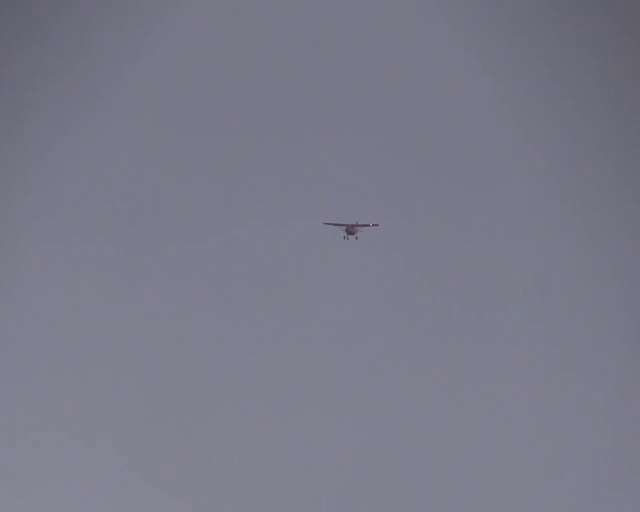AIRPLANE: (323, 220, 379, 240)
